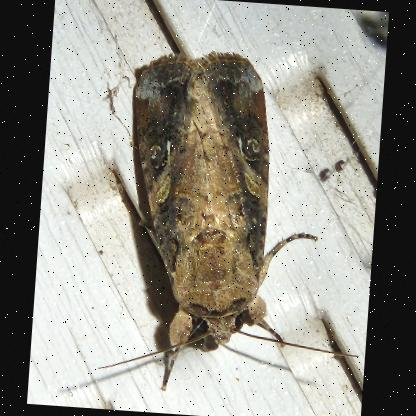Fall Armyworm Moth: (92, 40, 382, 408)
